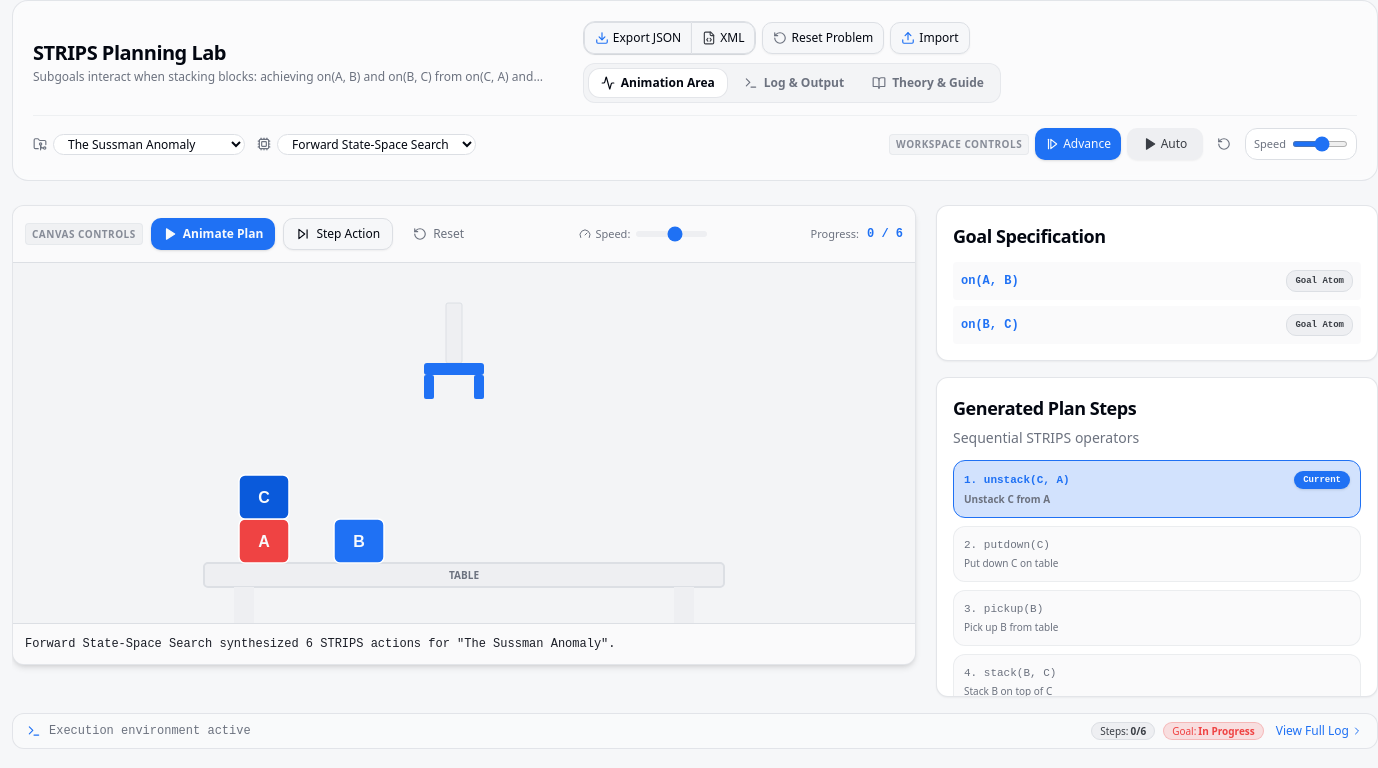
Test: AI Playground Comprehensive Verification Suite › 11. PlanningTool mounts Blocks World and steps plan animation
This screenshot has width=1378, height=768.
Expected: the heading "STRIPS Planning Lab" is shown, [33,39,226,66]
Expected: the text "TABLE" is shown, [33,68,533,101]
Click the button "Step Action". click: (338, 234)
box: [283,218,393,250]
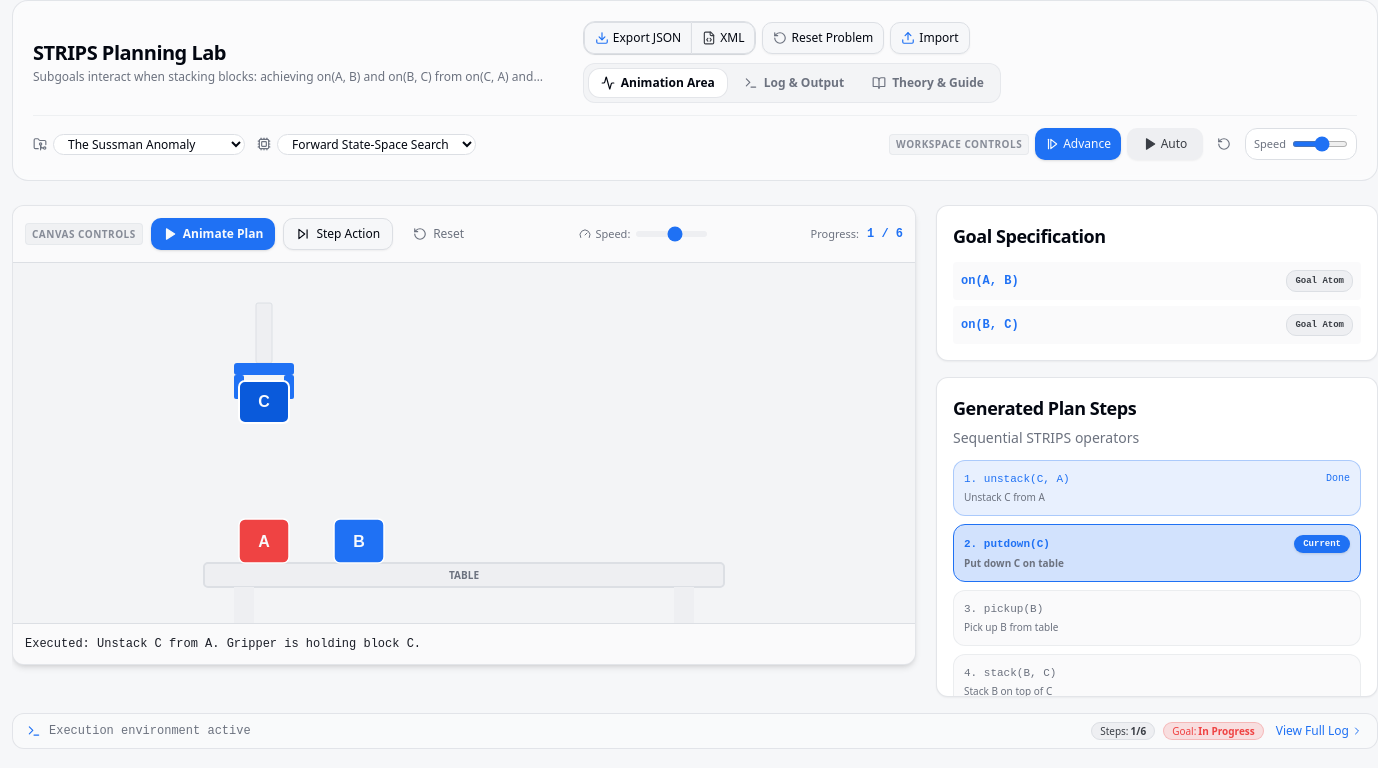
Expected: the text "Executed: Unstack C from A. Gripper is holding block C." is shown, [13,623,915,664]
